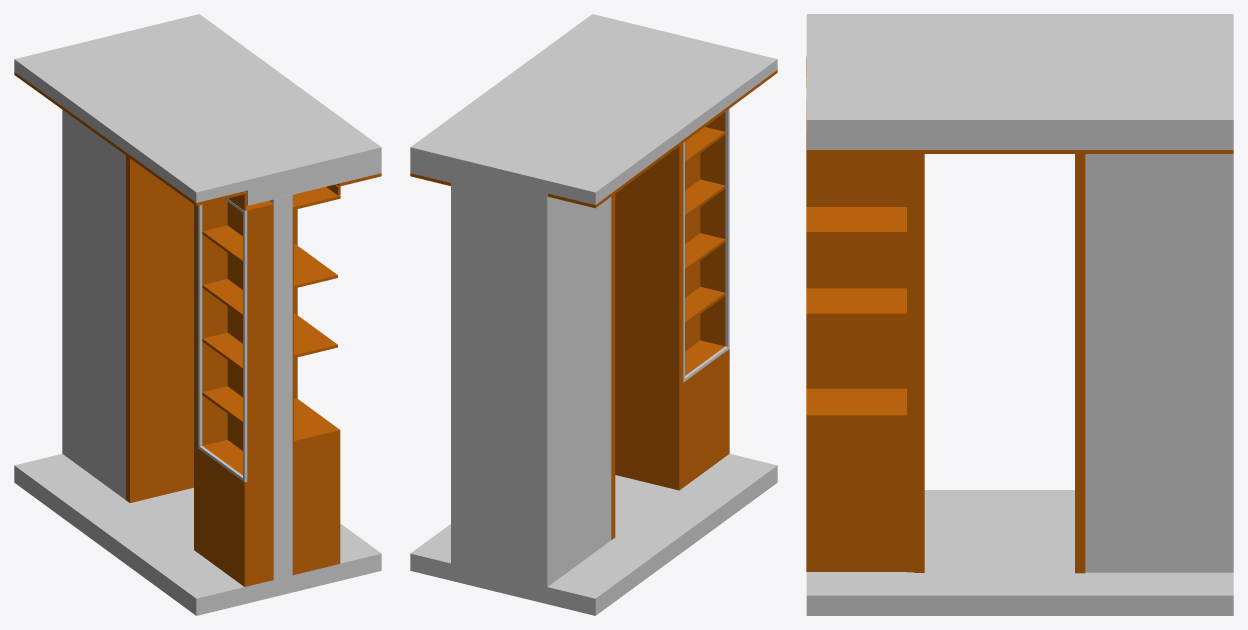
File: портал.obj
The picture shows the model from 3 angles, left to right: view 1: azimuth 30°, elevation 25°; view 2: azimuth 150°, elevation 25°; view 3: azimuth 270°, elevation 25°; orthographic projection. The views are drawn at different scales.
Size of the model in its own units: 1.35 by 2.95 by 2.3.
